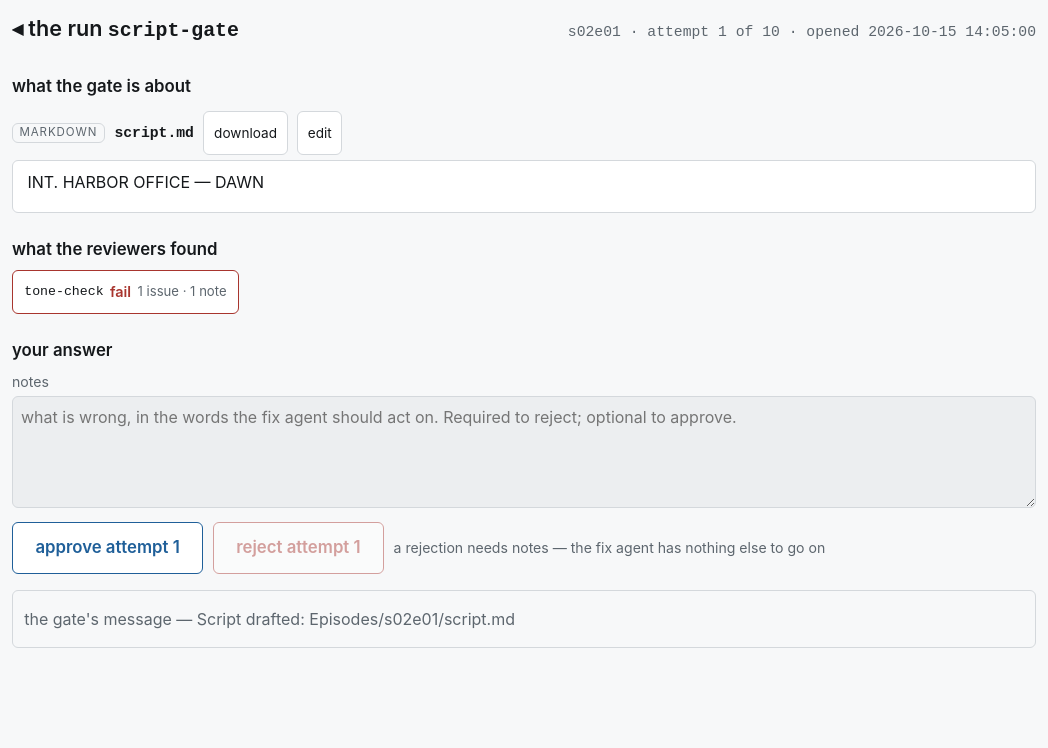
it: the verdict board at the gate › counts an issue and a note in the singular, and keeps the issues quotable
Expected: the text "INT. HARBOR OFFICE — DAWN" is shown, [27,172,264,192]
Expected: the text "1 issue · 1 note" is shown, [138,282,226,302]
Click the button "tone-check fail 1 issue · 1 note".
click(125, 292)  # box [12,270,239,314]
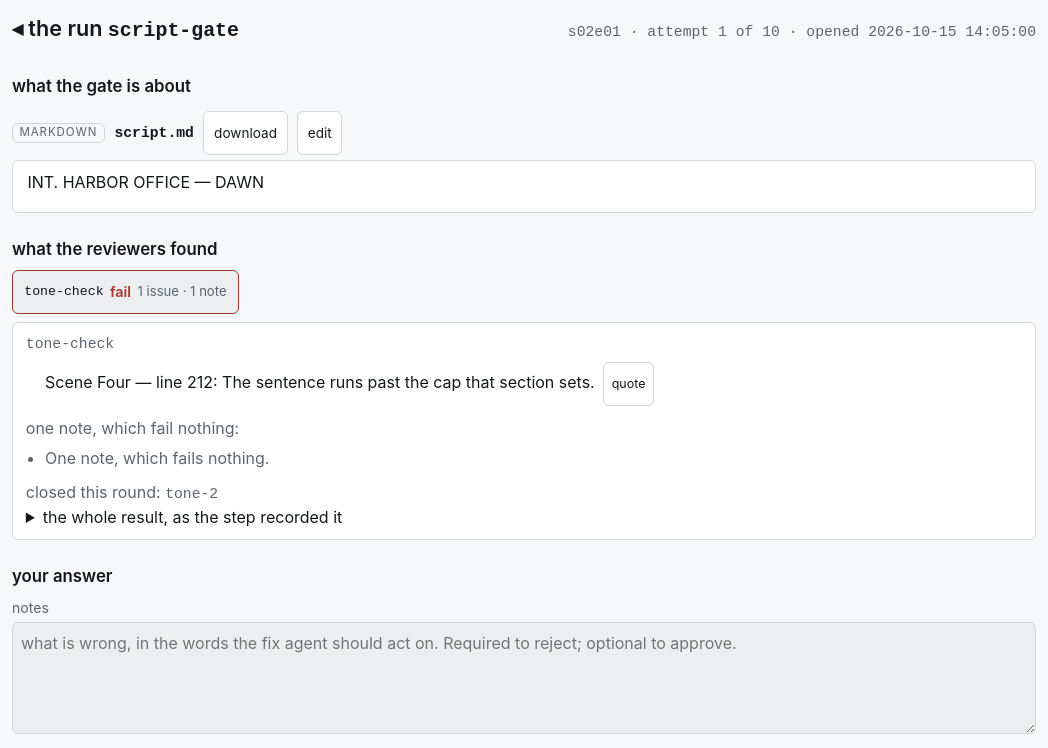
Expected: the 1st list shows "Scene Four — line 212: The sentence runs past the cap", [45,372,595,392]
Expected: the number of buttons with class "btn-quote" is 1, [603,362,654,406]
Expected: the element showing "closed this round: tone-2" is shown, [26,482,218,502]
